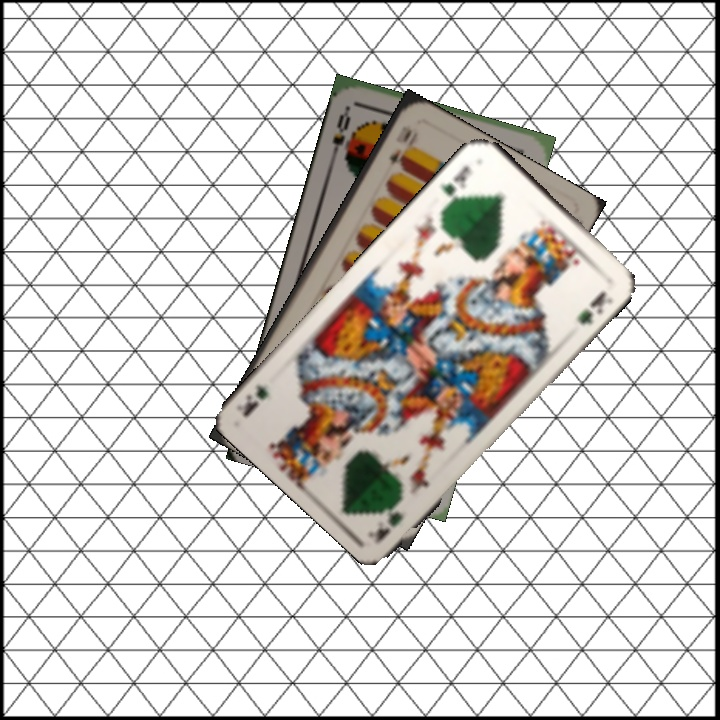E10: (385, 121, 415, 168)
GK: (436, 161, 475, 211), (367, 507, 406, 544)
SO: (327, 102, 353, 161)
